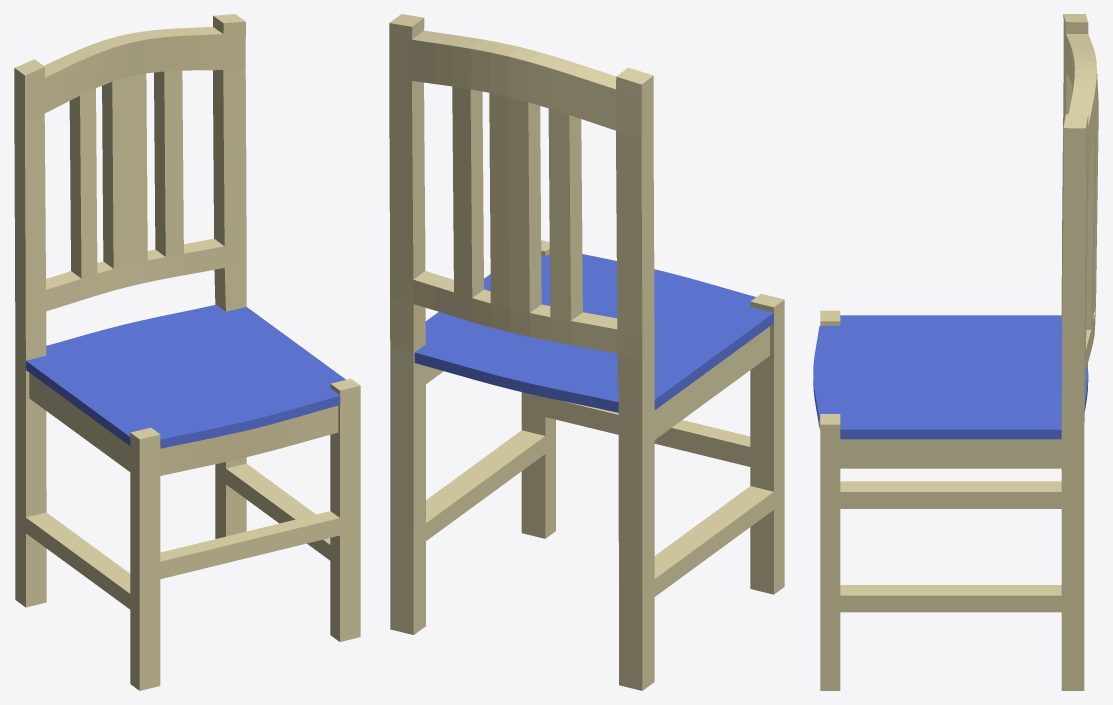
Rendered from Chair9.fbx.
3 views of the same model, side by side, from view 1: azimuth 30°, elevation 25°; view 2: azimuth 150°, elevation 25°; view 3: azimuth 270°, elevation 25° (orthographic). The views are drawn at different scales.
Parts seen in each view (by area): view 1: Plane; view 2: Plane; view 3: Plane.
Part boxes in pixels (x1,y1,x2,y2): Plane: (14, 14, 360, 690); Plane: (389, 14, 784, 690); Plane: (813, 14, 1098, 690).
Size of the model in its own units: 400 by 925 by 423.
